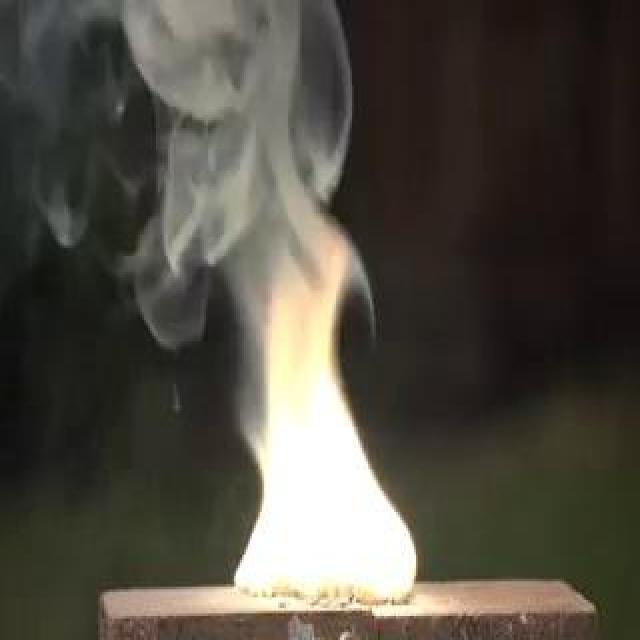Fire: (249, 413, 417, 614)
Smoke: (70, 7, 379, 310)
